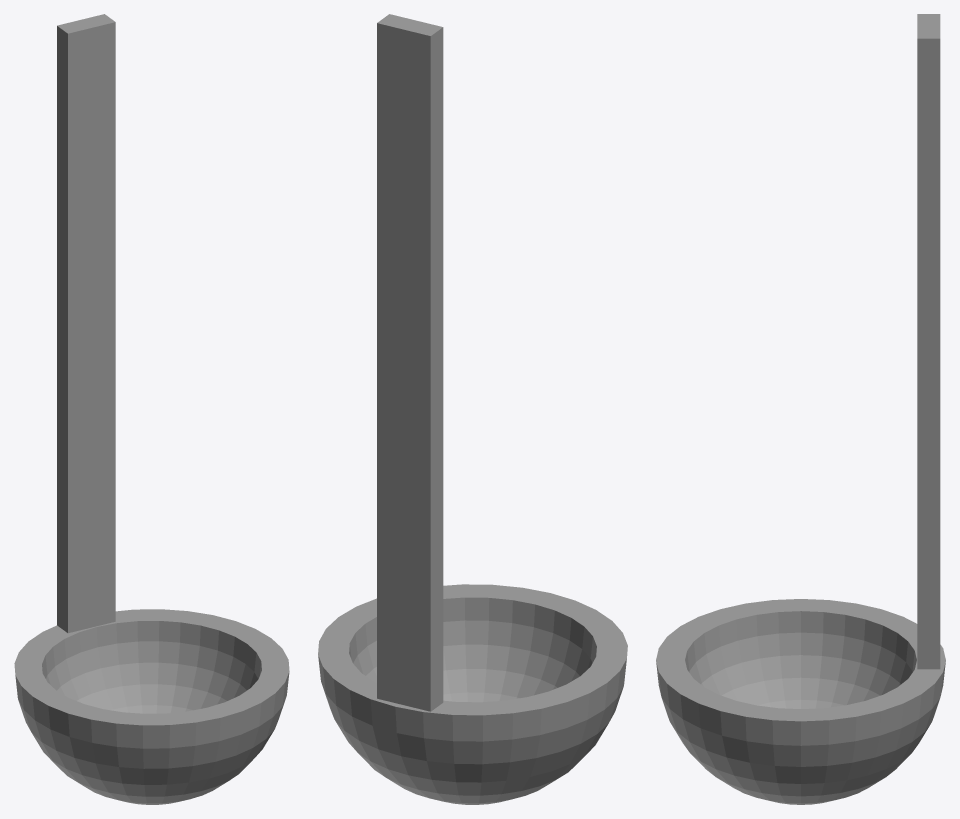
File: ladles.gltf
3 renders of one model, left to right at view 1: azimuth 30°, elevation 25°; view 2: azimuth 150°, elevation 25°; view 3: azimuth 270°, elevation 25°, orthographic. The views are drawn at different scales.
Parts seen in each view (by area): view 1: 球; view 2: 球; view 3: 球.
Boxes of the visible parts, bbox=[...] form: 球: bbox=[14, 14, 289, 804]; 球: bbox=[318, 14, 627, 804]; 球: bbox=[656, 14, 945, 804].
Bounding box in the file's own units: 0.5 × 1.45 × 0.5.
1 material, 1 textured.
